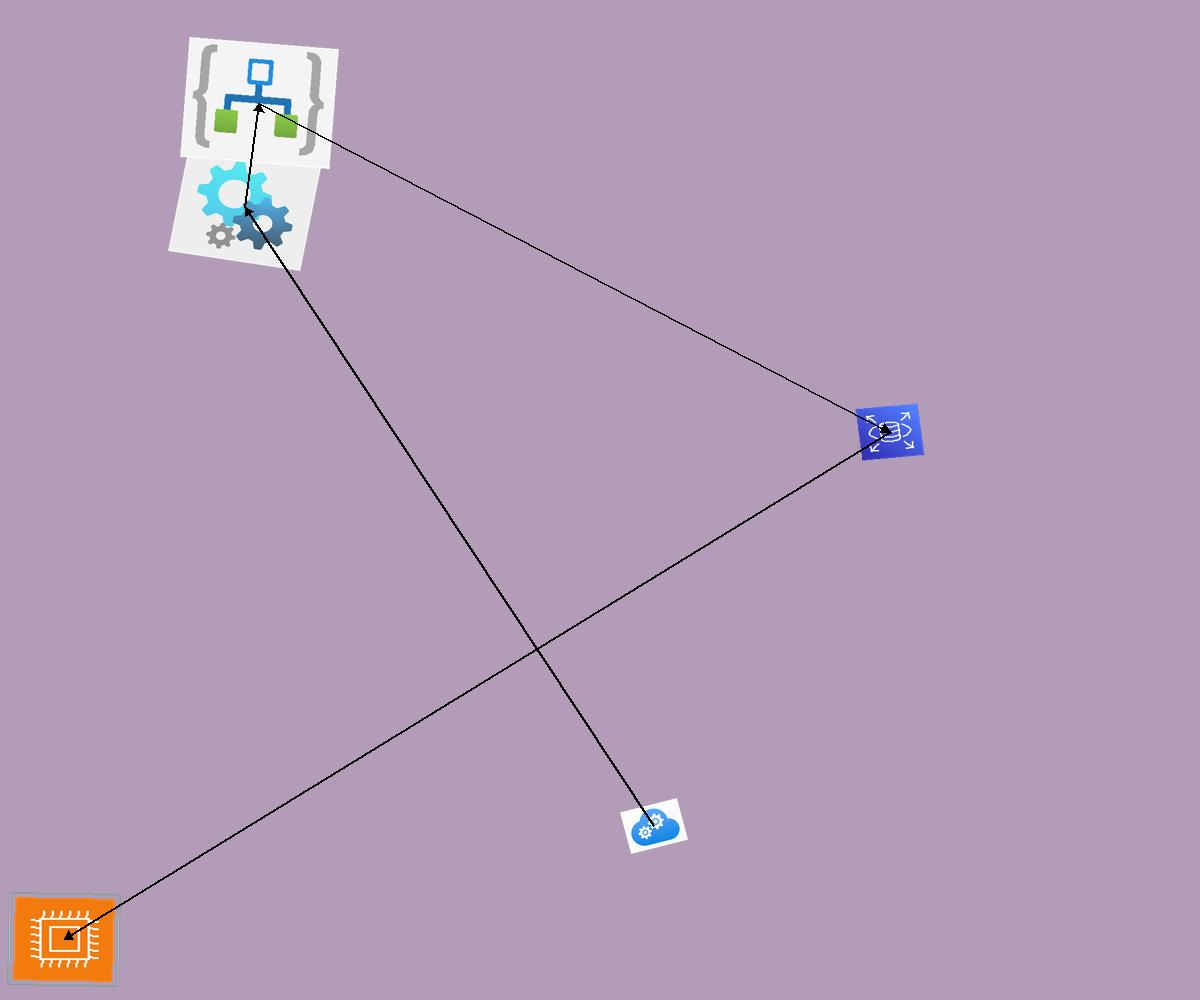AWS-Category_Compute: (7, 892, 121, 987)
AWS-RDS: (855, 403, 925, 461)
Azure_api: (168, 143, 322, 271)
Azure_cloud_services: (620, 798, 688, 854)
Azure_integration-204-Logic-Apps: (180, 37, 339, 169)
